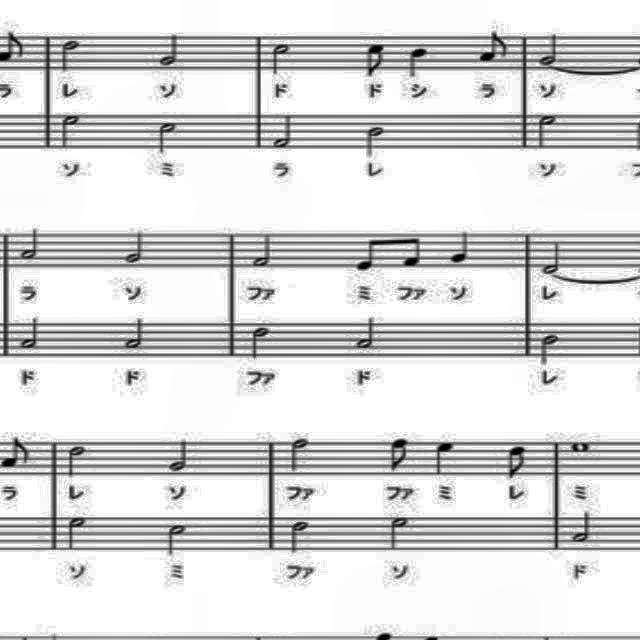Eighth-note: (354, 228, 391, 280), (391, 230, 429, 274), (476, 27, 512, 68), (1, 434, 32, 474), (366, 38, 390, 80), (388, 437, 412, 473), (506, 446, 528, 480)
Full-note: (570, 438, 592, 458)
Half-note: (59, 439, 92, 481), (154, 28, 182, 72), (18, 224, 46, 268), (120, 226, 148, 268), (285, 517, 313, 559), (160, 520, 192, 556), (536, 330, 564, 370), (168, 432, 192, 478), (354, 314, 381, 354), (266, 39, 294, 77), (18, 314, 42, 358), (288, 434, 312, 478), (538, 31, 562, 73), (360, 117, 384, 159), (568, 512, 596, 548), (535, 110, 557, 154), (56, 34, 80, 74), (250, 233, 276, 269), (156, 116, 177, 160), (272, 114, 296, 152), (538, 239, 562, 277), (58, 114, 82, 150), (66, 516, 90, 552), (122, 316, 144, 354), (390, 512, 410, 552), (252, 325, 270, 359)
Quarter-note: (404, 42, 436, 86), (429, 440, 456, 476), (448, 230, 472, 268)
